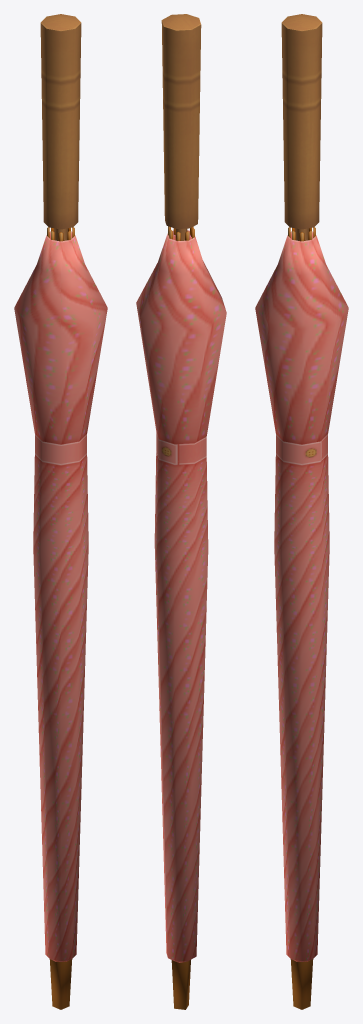
Rendered from set_umbrella_18.fbx.
3 views of the same model, side by side, from view 1: azimuth 90°, elevation 25°; view 2: azimuth 210°, elevation 25°; view 3: azimuth 270°, elevation 25° (orthographic).
Parts seen in each view (by area): view 1: set_umbrella_18; view 2: set_umbrella_18; view 3: set_umbrella_18.
Part boxes in pixels (bbox=[...]): set_umbrella_18: bbox=[14, 14, 107, 1009]; set_umbrella_18: bbox=[136, 14, 226, 1009]; set_umbrella_18: bbox=[255, 14, 348, 1009].
Bounding box in the file's own units: 7.05 × 82.16 × 7.05.
